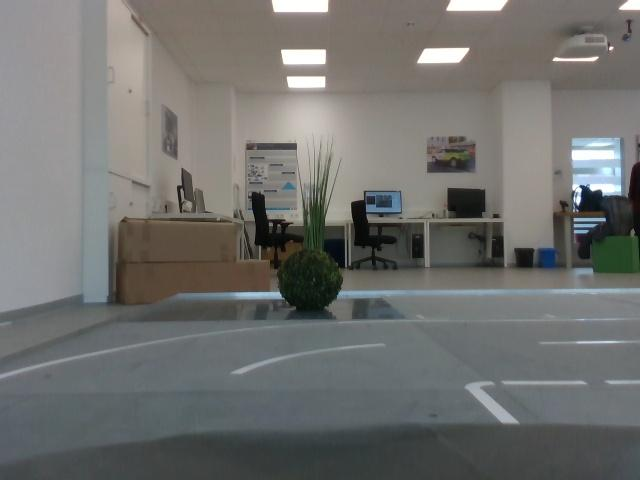Vegetation: (298, 133, 341, 249), (281, 250, 346, 317)
